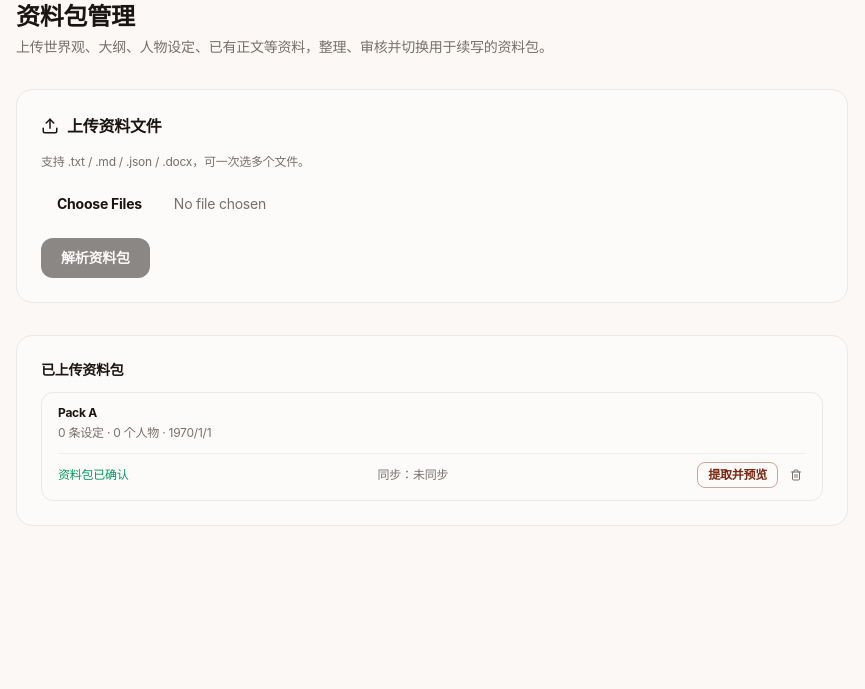
Test: ContinuationPackView partial sync › after partial sync, hides imported entities and shows only unresolved relationships
Click the text "Pack A": (78, 412) [58, 405, 97, 420]
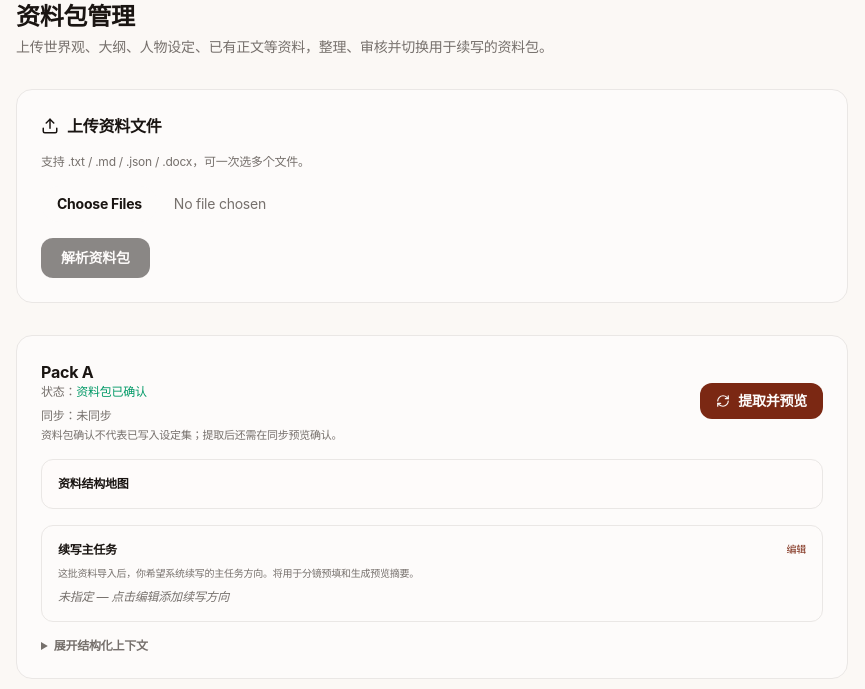
Click the button "提取并预览": (762, 401) [700, 383, 823, 419]
(page scrolled)
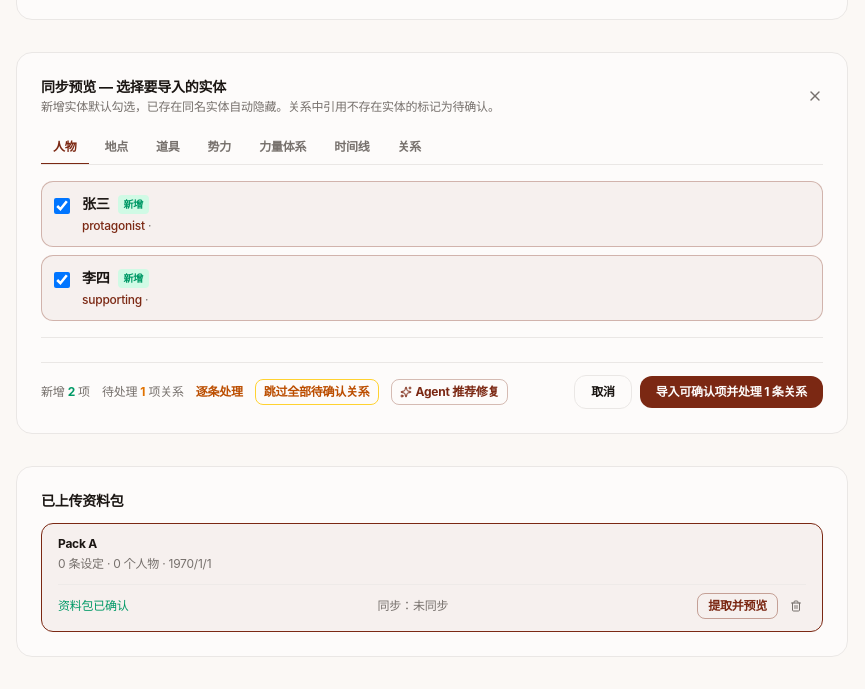
Click the button "导入可确认项并处理 1 条关系": (731, 392) [640, 376, 823, 408]
(page scrolled)
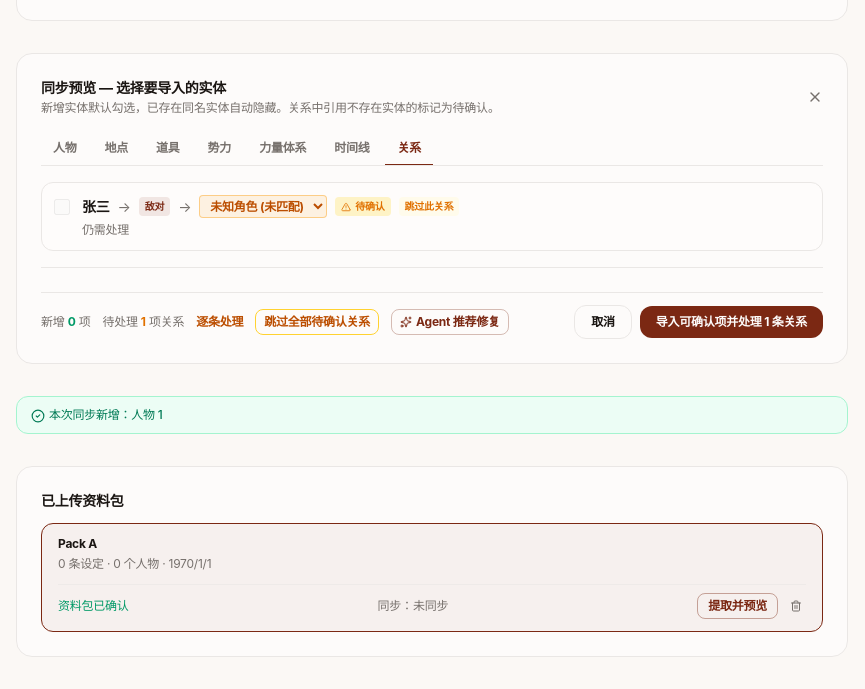
Expected: the text "仍需处理" is shown, [82, 222, 129, 237]
Click the button "人物": (65, 149) [41, 132, 88, 166]
(page scrolled)
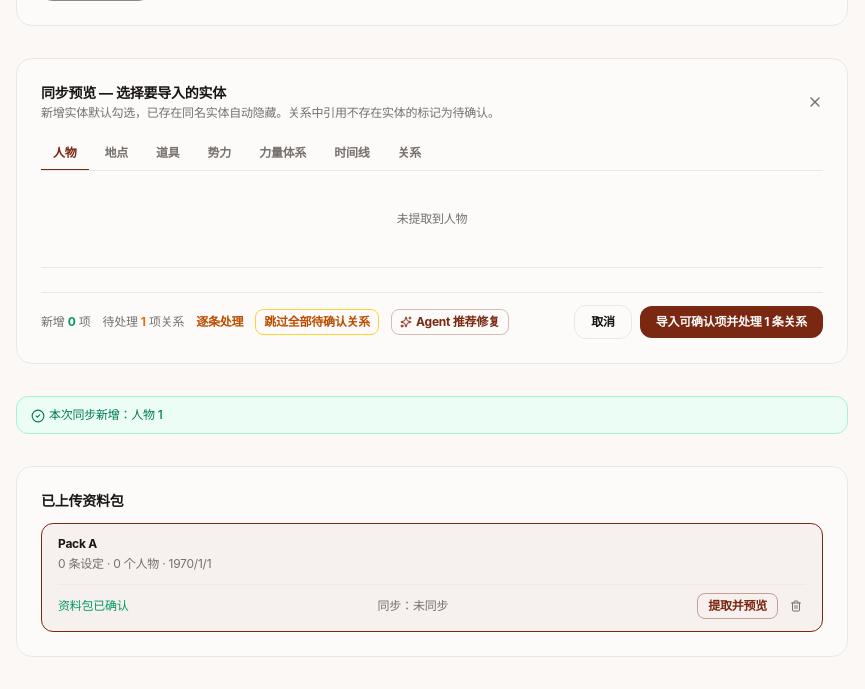
Expected: the text "未提取到人物" is shown, [397, 211, 467, 226]
